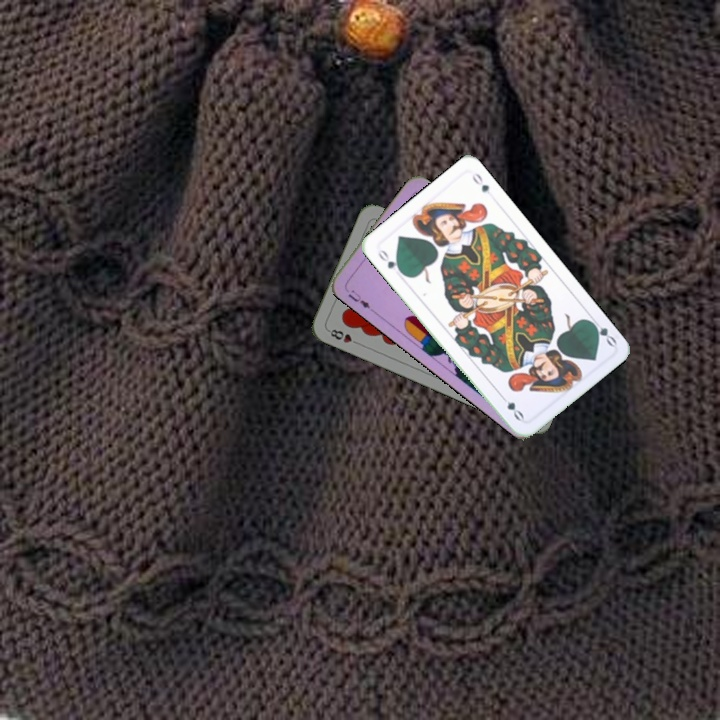EU: (344, 285, 376, 314)
GO: (585, 313, 619, 349), (374, 246, 406, 277)
H8: (324, 325, 363, 347)
